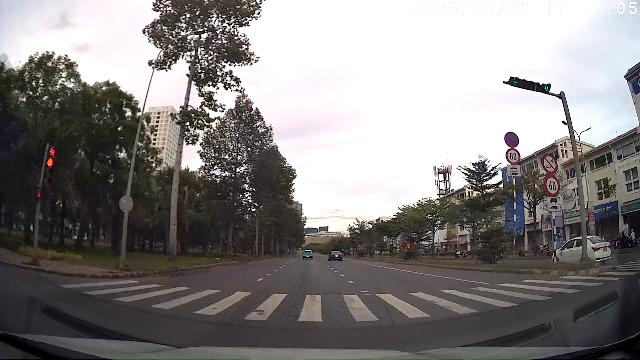127-toc-do-toi-da-60: (544, 174, 560, 195)
127-toc-do-toi-da-80: (506, 148, 520, 164)
130-cam-dung-va-do-xe: (504, 132, 520, 148)
